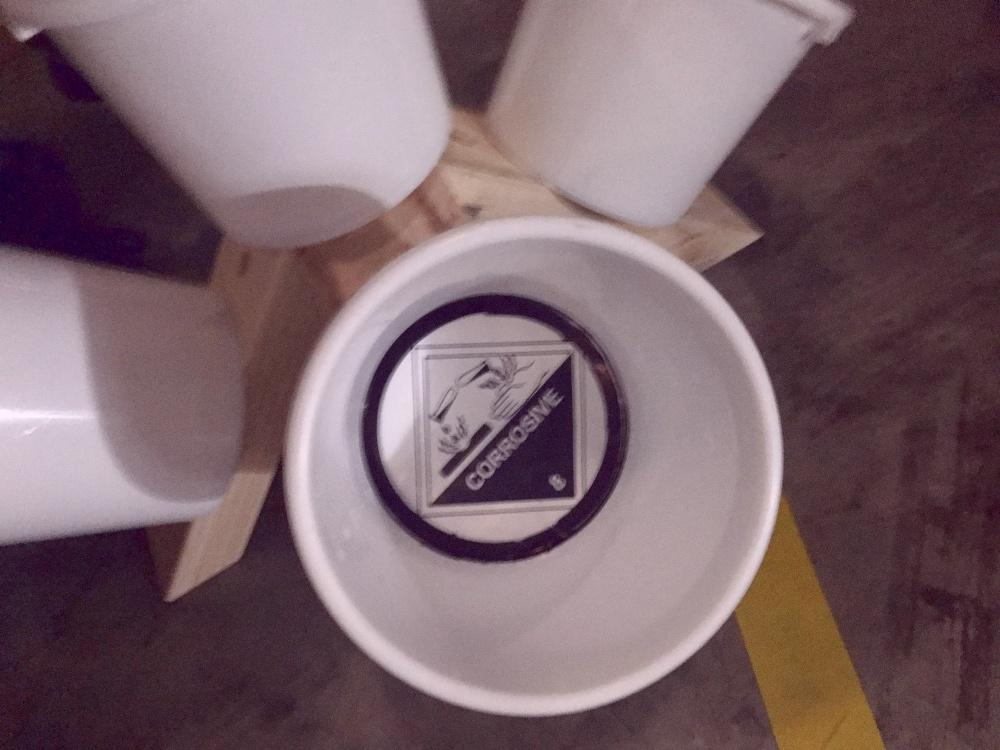corrosive: (415, 338, 584, 522)
